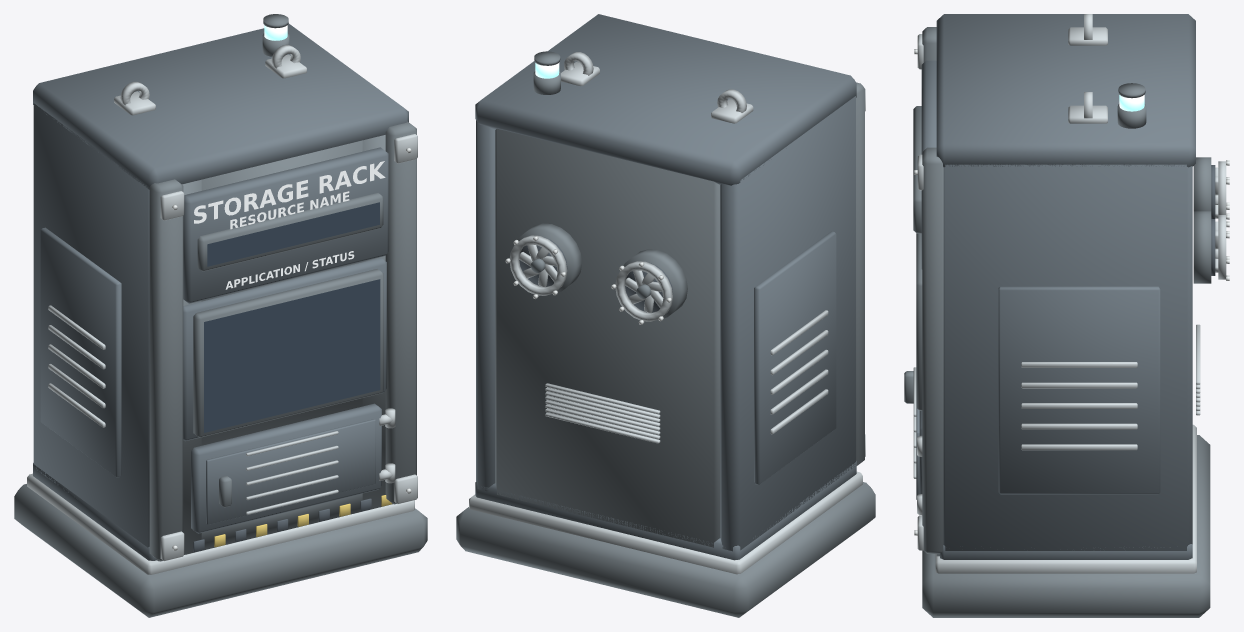
The model's file is storage_rack_standard.glb.
The picture shows the model from 3 angles, left to right: view 1: azimuth 30°, elevation 25°; view 2: azimuth 150°, elevation 25°; view 3: azimuth 270°, elevation 25°; orthographic projection. The views are drawn at different scales.
Parts seen in each view (by area): view 1: Roof_graphite, SideWall_graphite, CornerPost_frame, LiveViewSurface_glass, Skid_frame, SideServicePanel_graphite, FrontHeader_graphite, DoorMoving_Inset_graphite, DoorMoving_Panel_graphite, SkidDeck_steel, LiveViewSurfaceFrame_frame, ScreenSupport_graphite (+16 smaller); view 2: BackWall_frame, SideWall_graphite, Roof_graphite, Skid_frame, SideServicePanel_graphite, SkidDeck_steel, RearFan_steel, KickPlate_graphite, RearVent_steel, CornerPost_frame, RearFan_frame, SideLouver_steel (+3 smaller); view 3: SideWall_graphite, Roof_graphite, SideServicePanel_graphite, Skid_frame, CornerPost_frame, SkidDeck_steel, SideLouver_steel, RearFan_frame, KickPlate_graphite, FrontHeader_graphite, RearFan_steel, LiftMount_steel (+7 smaller).
Boxes of the visible parts, x1,y1,x2,y2 form: Roof_graphite: [33, 23, 408, 189]; SideWall_graphite: [33, 103, 149, 547]; CornerPost_frame: [149, 121, 416, 561]; LiveViewSurface_glass: [204, 279, 380, 432]; Skid_frame: [14, 484, 427, 617]; SideServicePanel_graphite: [40, 227, 121, 477]; FrontHeader_graphite: [183, 147, 388, 303]; DoorMoving_Inset_graphite: [206, 419, 375, 524]; DoorMoving_Panel_graphite: [191, 403, 381, 533]; SkidDeck_steel: [27, 473, 414, 574]; LiveViewSurfaceFrame_frame: [193, 269, 383, 437]; ScreenSupport_graphite: [183, 258, 386, 441]; BackWall_frame: [495, 128, 720, 547]; SideWall_graphite: [476, 96, 855, 551]; Roof_graphite: [475, 14, 856, 185]; Skid_frame: [456, 482, 875, 617]; SideServicePanel_graphite: [754, 231, 836, 484]; SkidDeck_steel: [469, 471, 862, 574]; RearFan_steel: [509, 235, 672, 321]; KickPlate_graphite: [475, 461, 856, 560]; RearVent_steel: [545, 383, 660, 443]; CornerPost_frame: [856, 82, 864, 465]; RearFan_frame: [518, 223, 687, 319]; SideLouver_steel: [770, 310, 828, 434]; SideWall_graphite: [943, 164, 1192, 550]; Roof_graphite: [936, 14, 1195, 167]; SideServicePanel_graphite: [998, 286, 1160, 494]; Skid_frame: [922, 435, 1210, 617]; CornerPost_frame: [922, 27, 943, 553]; SkidDeck_steel: [935, 424, 1196, 573]; SideLouver_steel: [1021, 362, 1137, 450]; RearFan_frame: [1193, 157, 1211, 283]; KickPlate_graphite: [940, 544, 1192, 559]; FrontHeader_graphite: [921, 60, 936, 269]; RearFan_steel: [1215, 161, 1226, 279]; LiftMount_steel: [1068, 27, 1107, 123].
Size of the model in its own units: 1.6 by 2.53 by 1.48.
